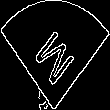M_SW: (31, 21, 79, 89)
